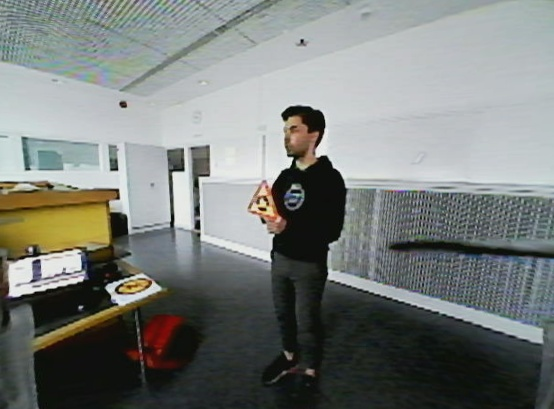roundabout_warning: (243, 177, 284, 223)
